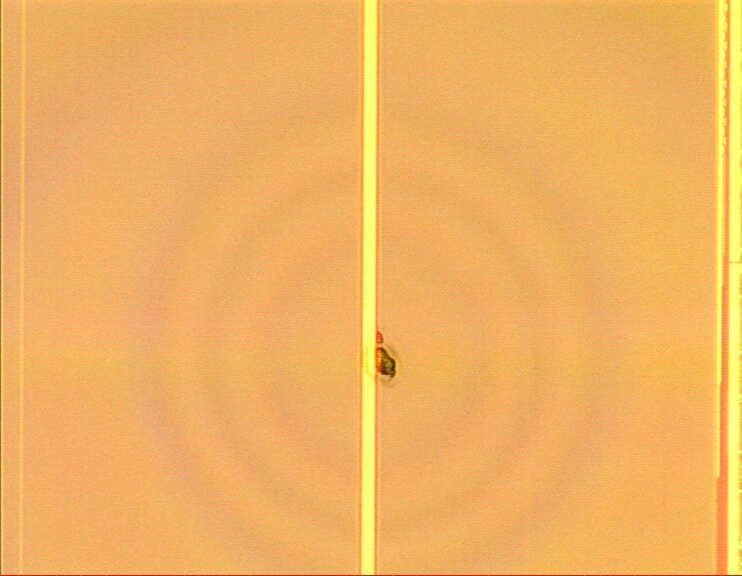PIQ PARTICLE: (365, 328, 404, 387)
